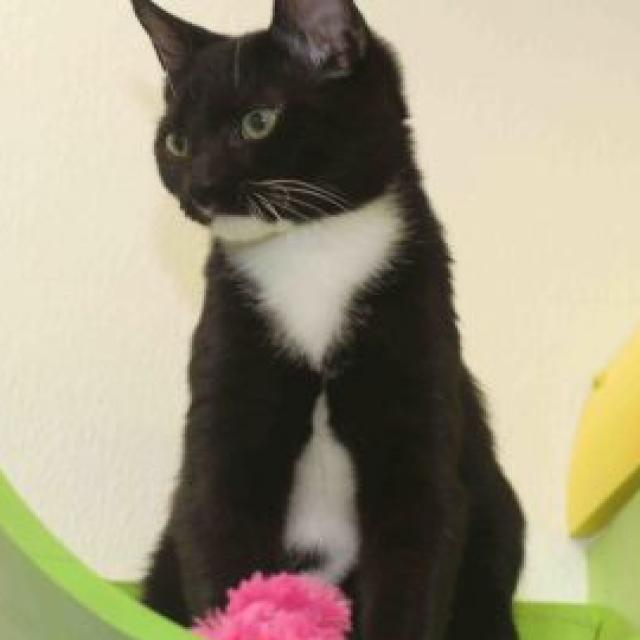Tuxedo: (128, 0, 531, 640)
